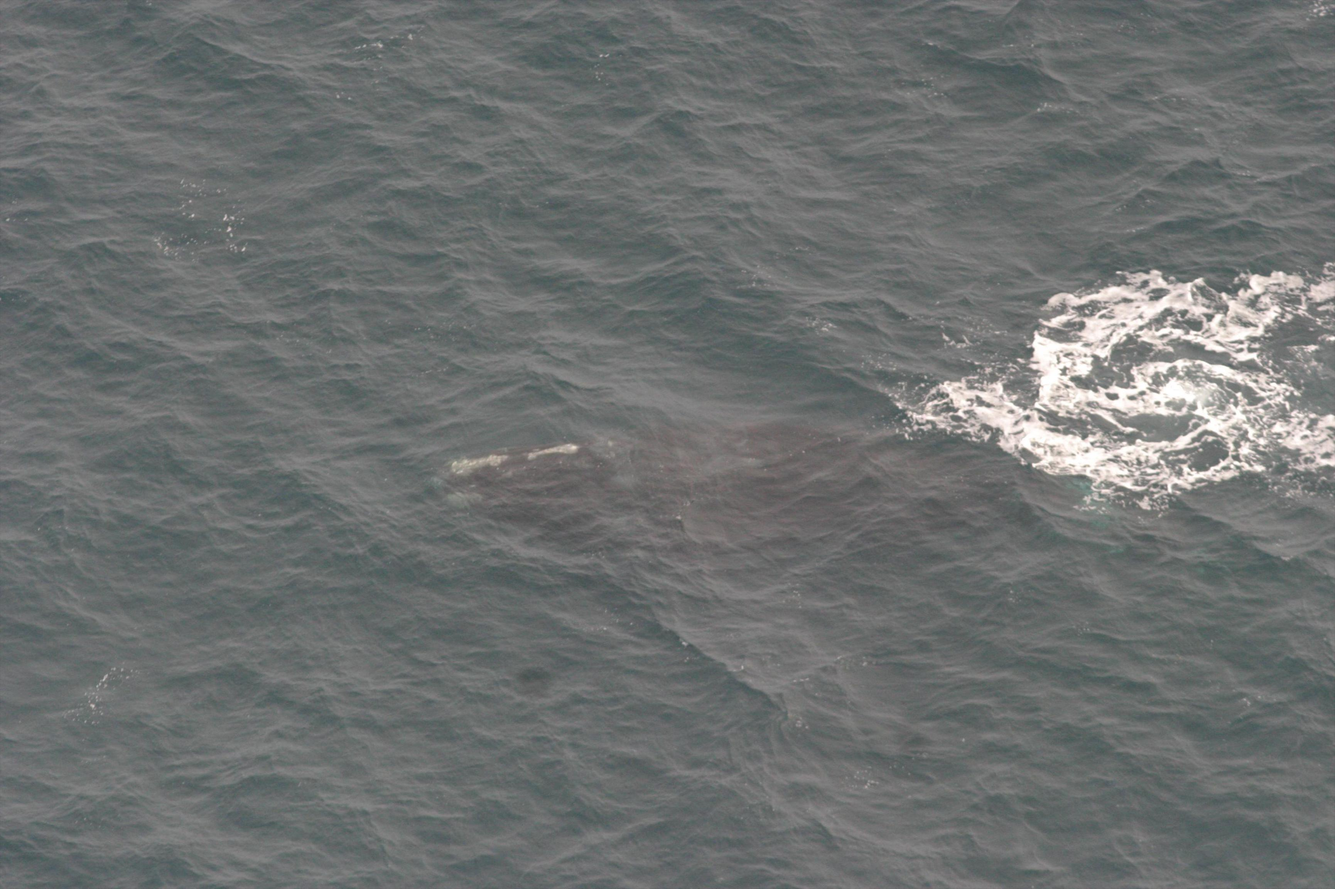whale: (422, 382, 1006, 553)
